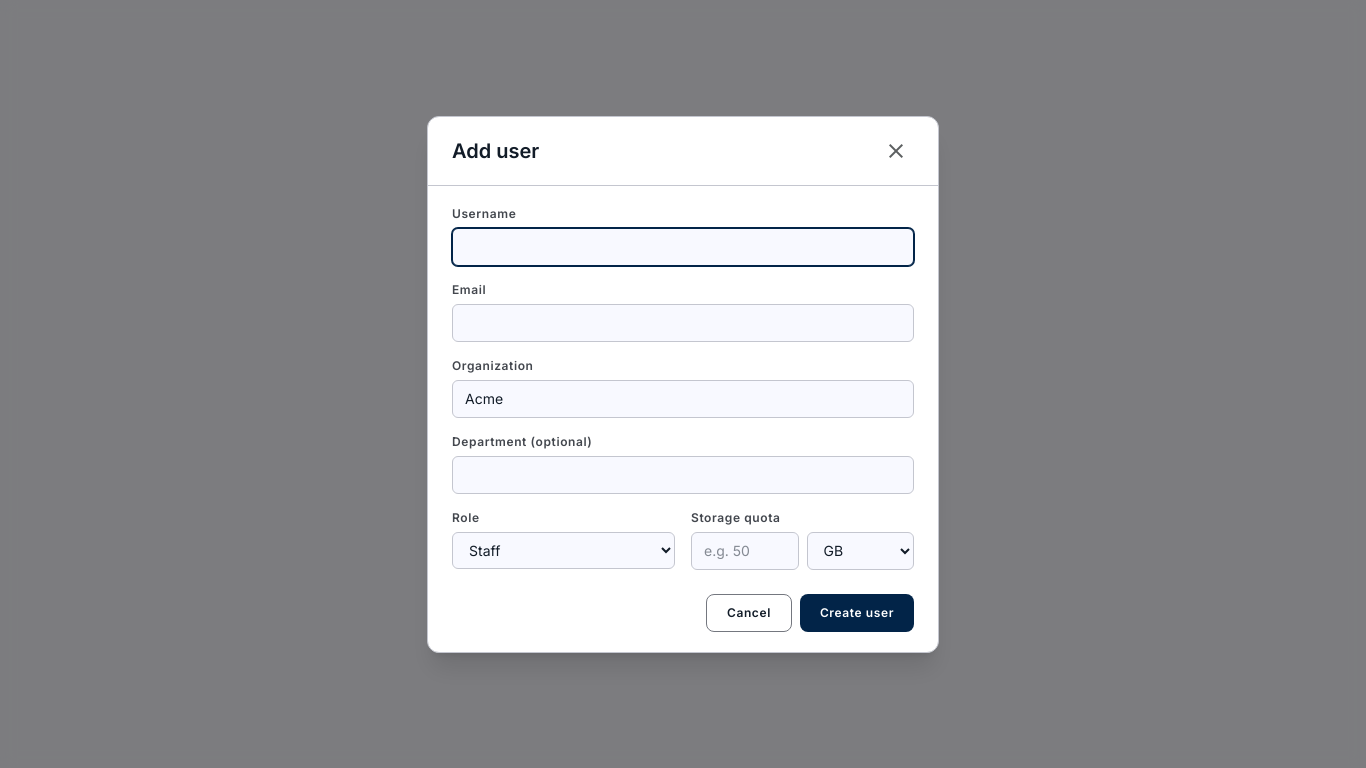
Test case: UserFormModal — create mode › rejects a username with spaces and a malformed email
This screenshot has width=1366, height=768.
Type "grace lovelace" into the field labelled "Username" at (683, 246), box [452,228,914,266]
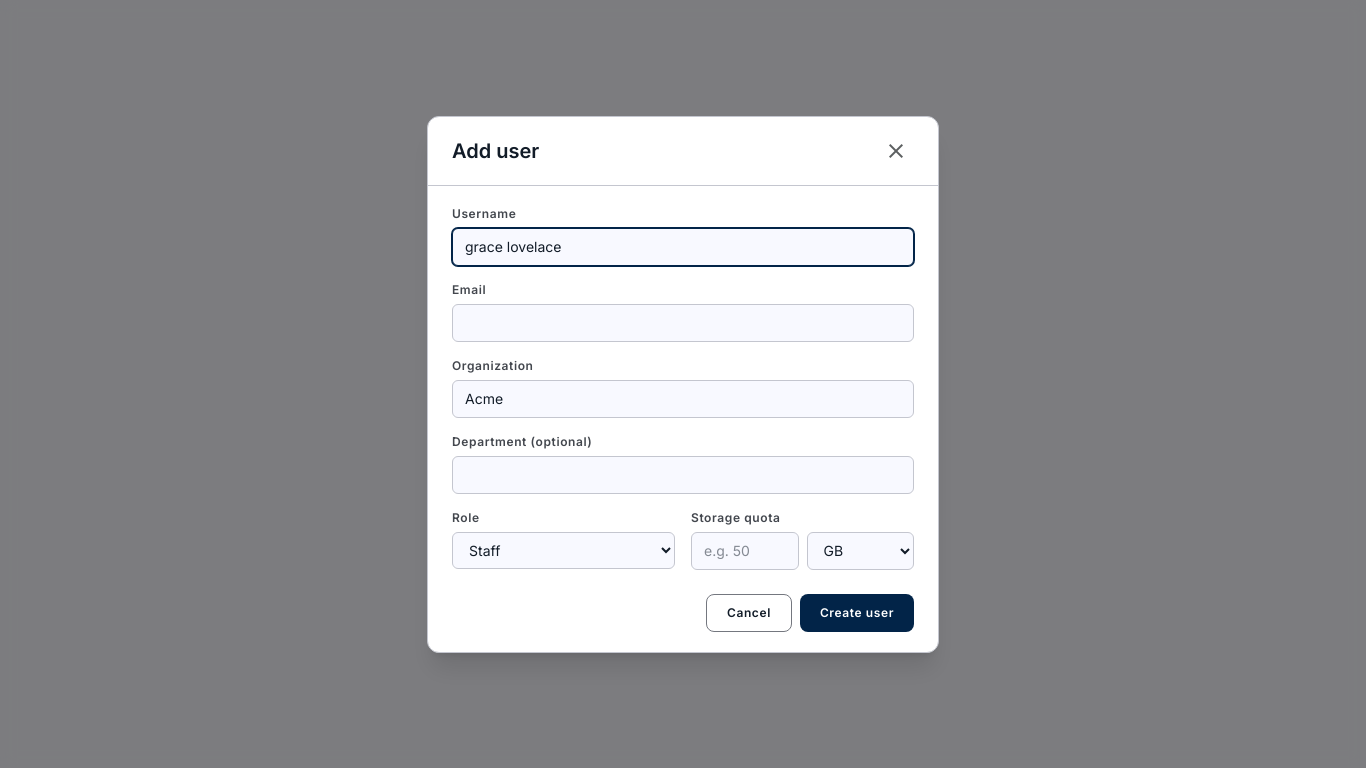
Type "not-an-email" into the field labelled "Email" at (683, 322), box [452,304,914,342]
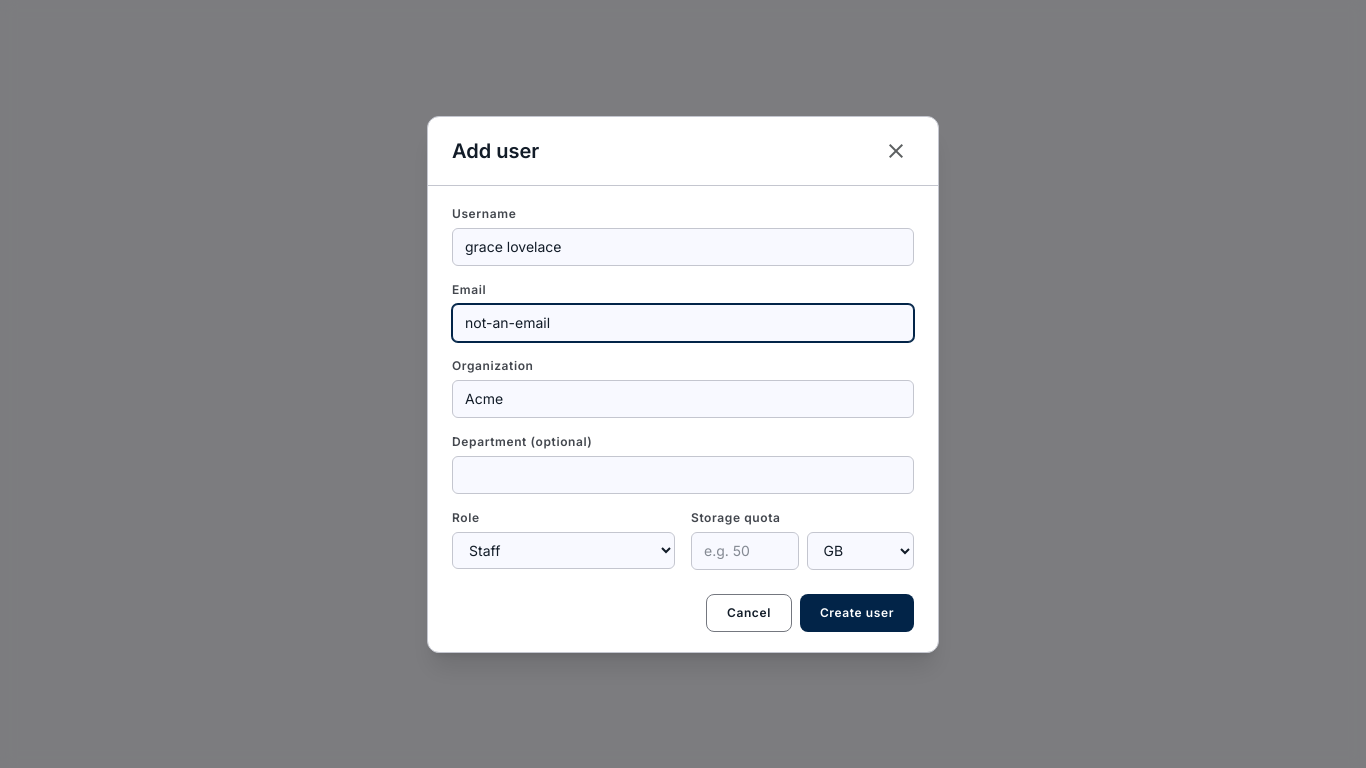
Type "50" into the number field labelled "Storage quota" at (745, 550), box [691,532,798,570]
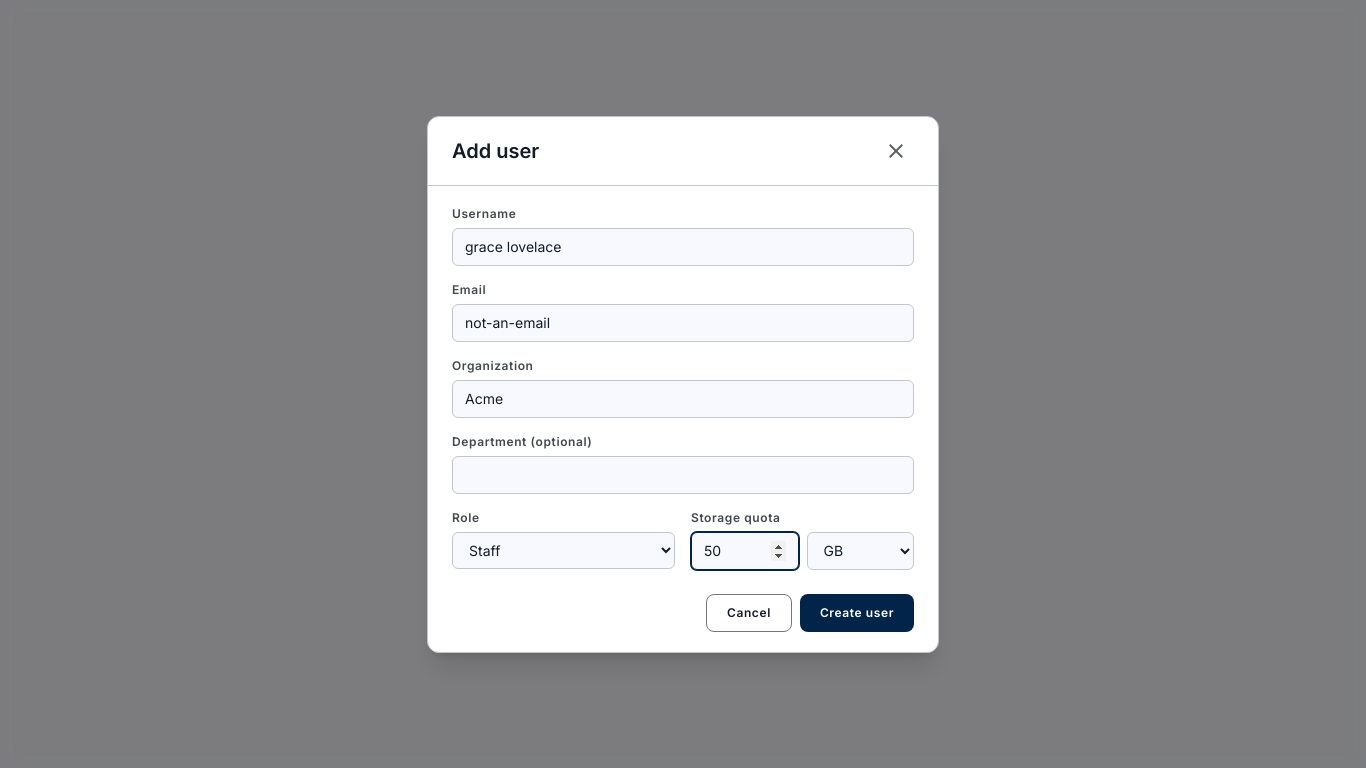
Click the button "Create user" at (857, 612), box [800,594,914,632]
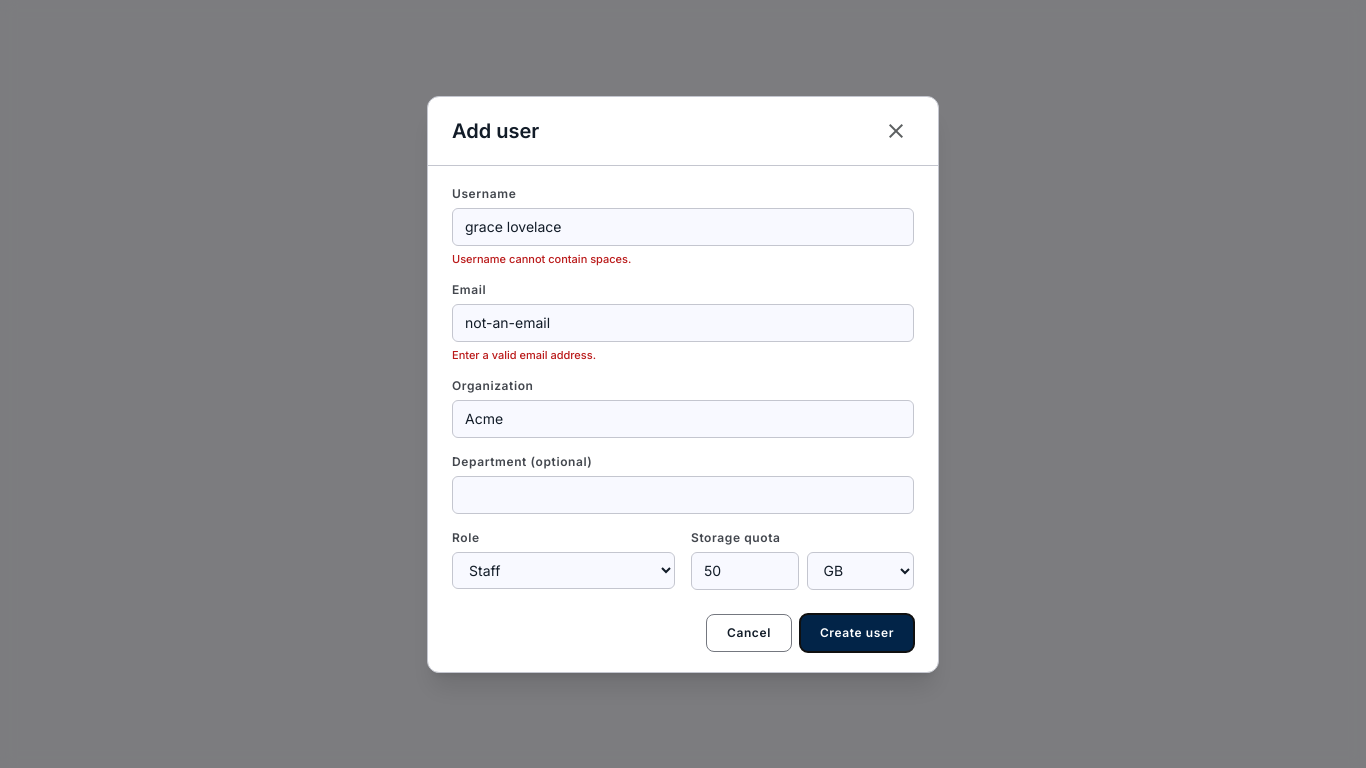
Now the text "Username cannot contain spaces." is shown, box [452,252,631,266]
Now the text "Enter a valid email address." is shown, box [452,348,596,362]
